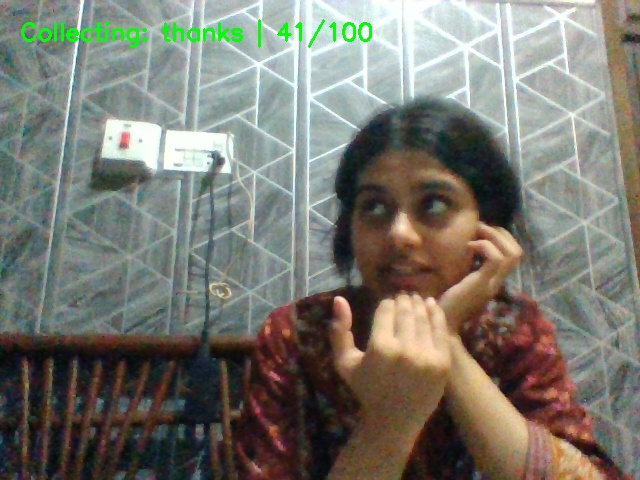thanks: (329, 287, 480, 480)
